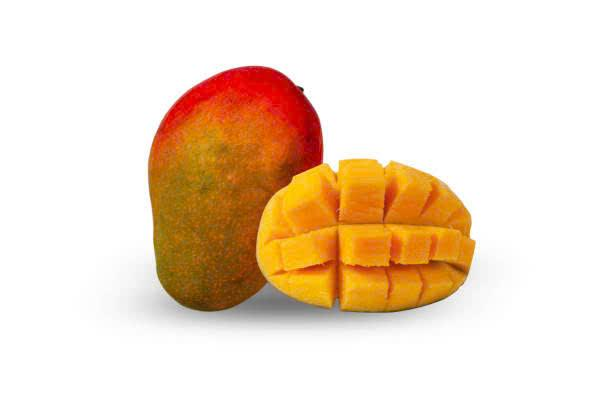mango: (139, 61, 323, 314), (255, 155, 480, 310)
